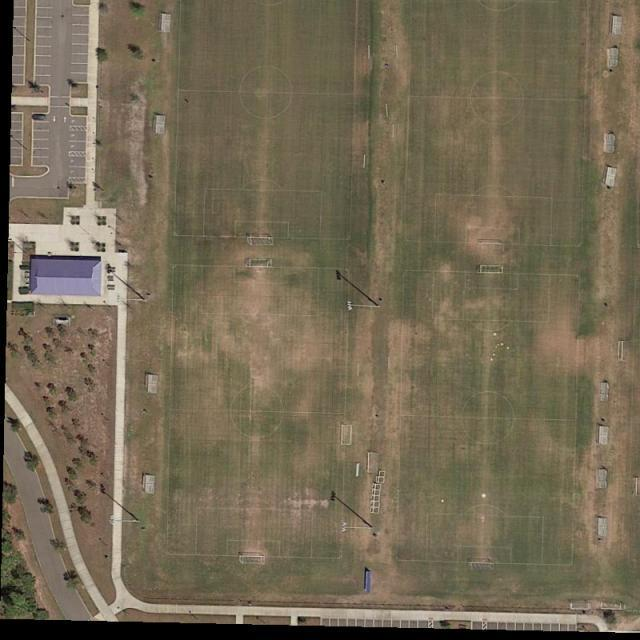vehicle: (32, 114, 47, 121)
